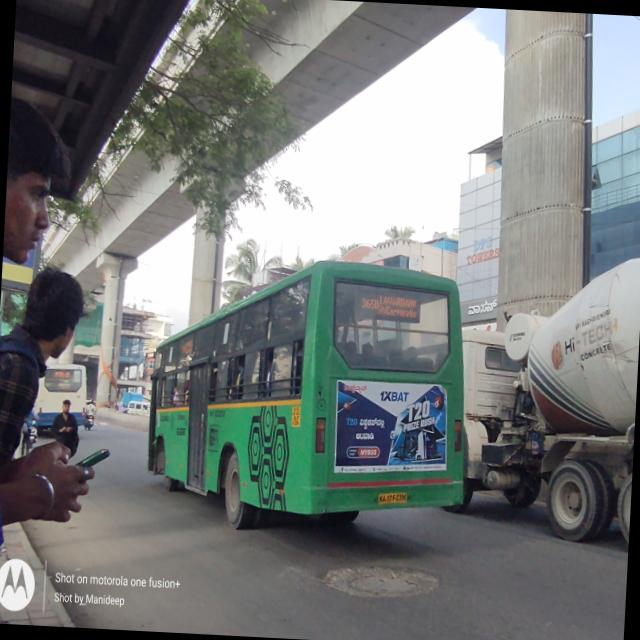bus: (119, 203, 478, 564), (28, 352, 96, 436)
display: (354, 284, 424, 326)
dnumber: (358, 292, 381, 317)
